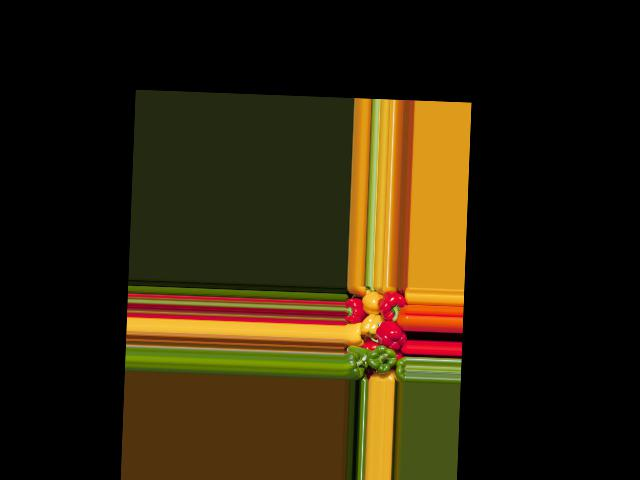bell_pepper: (391, 355, 407, 382)
